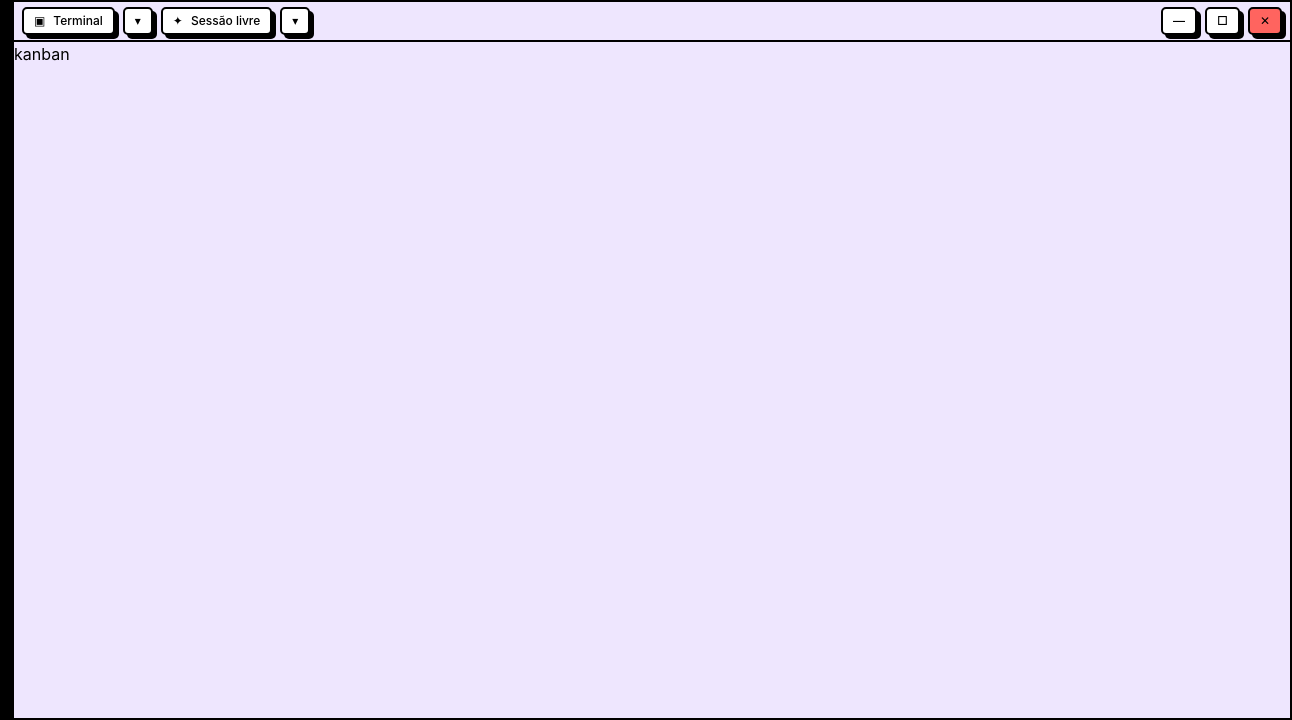
CA-5 — um clique abre no último perfil, sem perguntar › não abre menu, diálogo nem pergunta nenhuma: o único elemento novo é a aba
Click the button with test id "mesa-new-terminal".
click(68, 21)  # box [22, 7, 115, 35]
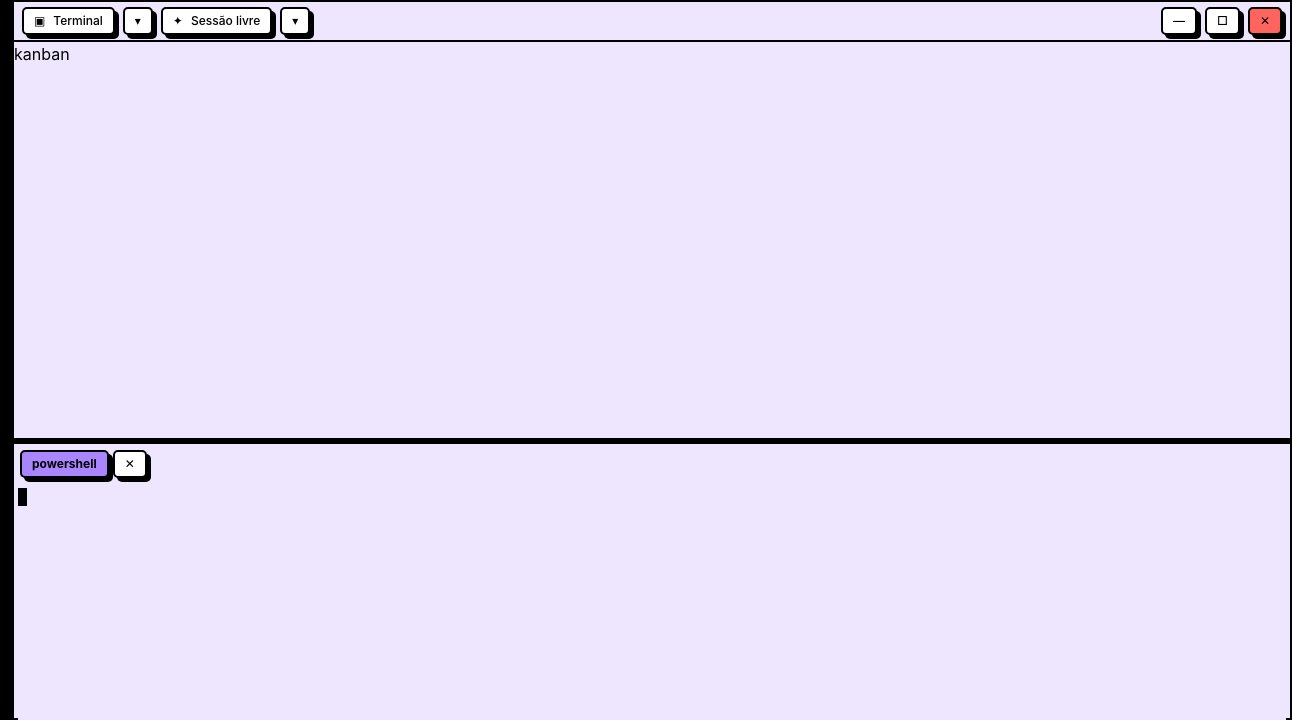
Check: the number of tabs with test id "terminal-tab" is 1, box [20, 450, 109, 478]
